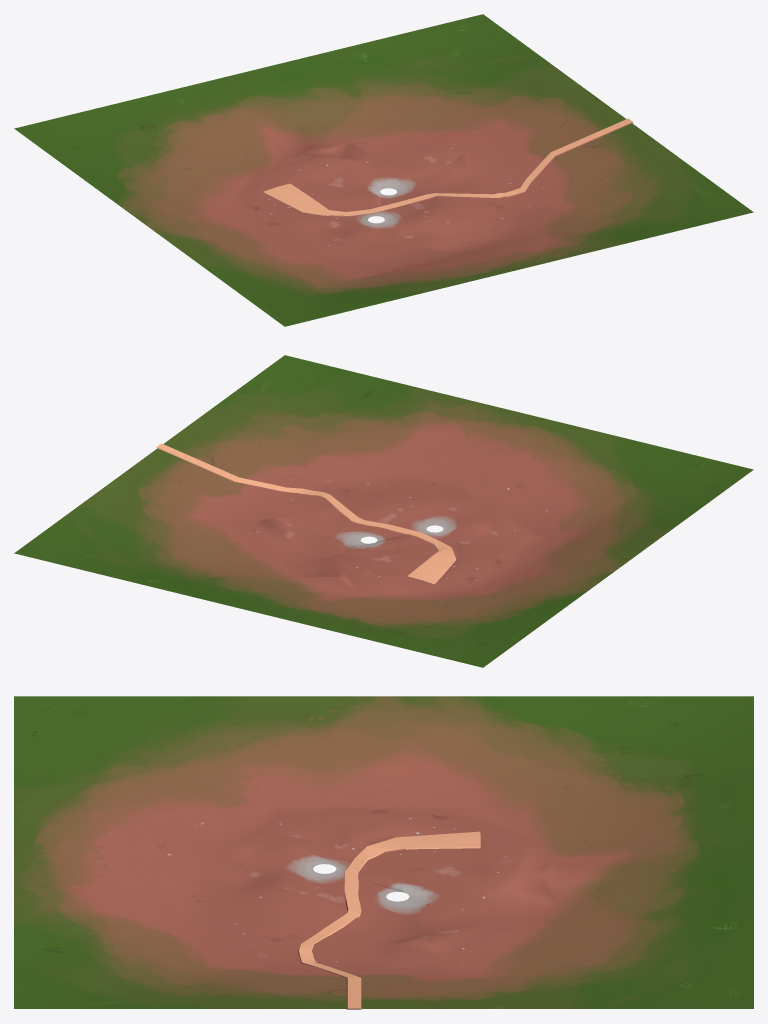
Rendered from missilegroundtextured.FBX.
3 renders of one model, top to bottom at view 1: azimuth 30°, elevation 25°; view 2: azimuth 150°, elevation 25°; view 3: azimuth 270°, elevation 25°, orthographic. The views are drawn at different scales.
Parts seen in each view (by area): view 1: Plane001; view 2: Plane001; view 3: Plane001.
Part boxes in pixels (box(x1,y1,x2,y2)): Plane001: box(14, 14, 753, 326); Plane001: box(14, 355, 753, 667); Plane001: box(14, 696, 753, 1009).
Bounding box in the file's own units: 1704 × 109 × 1700.
1 material, 1 textured.
